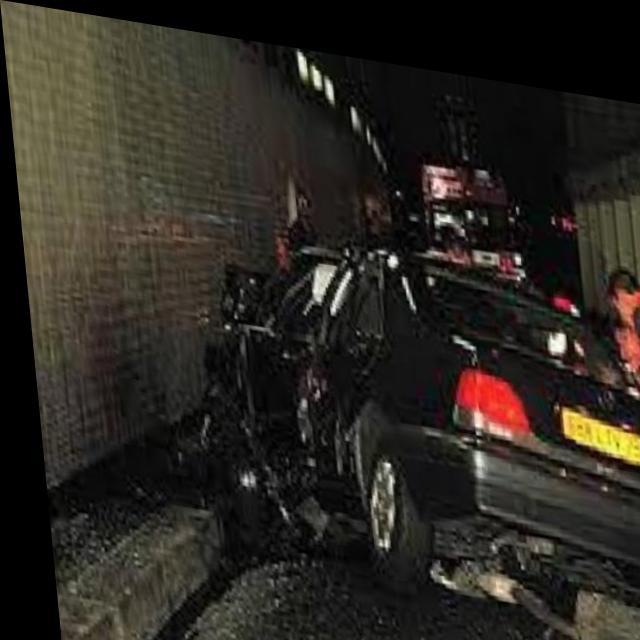no part: (198, 240, 383, 496)
